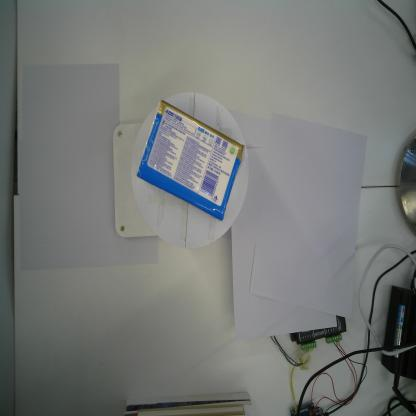Tissue: (134, 99, 245, 223)
